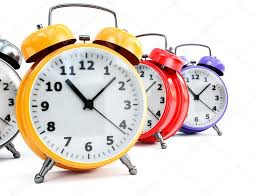alarm_clock: (19, 2, 231, 182), (19, 9, 231, 182)
